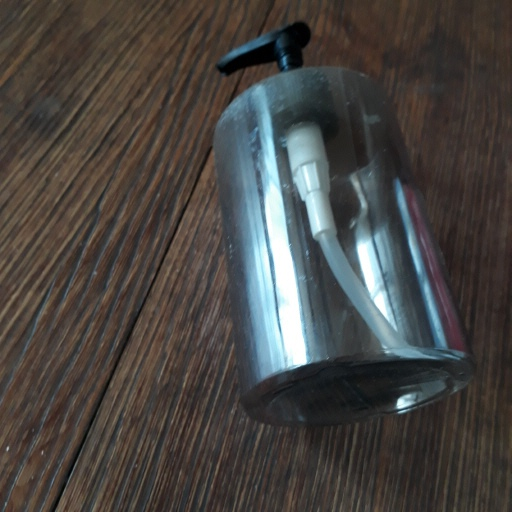Plastic_3: (208, 21, 478, 423)
